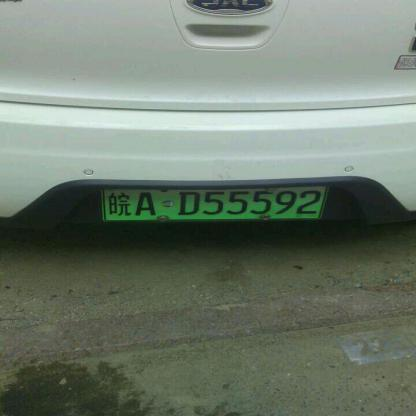lp: (101, 186, 326, 220)
